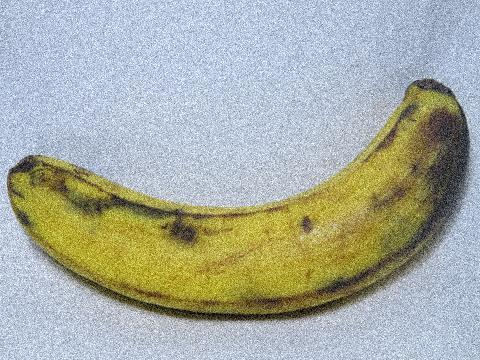ripe: (5, 74, 479, 321)
